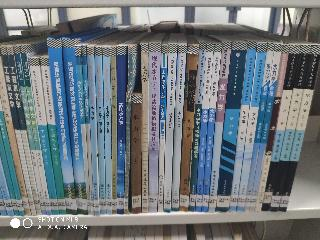book-spine: (275, 46, 320, 211), (270, 45, 310, 211), (261, 45, 300, 211), (7, 47, 42, 214), (1, 47, 35, 214), (255, 45, 289, 211), (20, 44, 52, 214), (215, 42, 247, 210), (249, 44, 281, 211), (14, 47, 46, 214), (235, 43, 266, 211), (48, 39, 76, 213), (0, 59, 30, 216), (245, 44, 273, 212), (229, 42, 256, 211), (30, 58, 58, 214), (65, 39, 86, 212), (209, 43, 230, 212), (42, 59, 65, 213), (178, 46, 197, 209), (202, 45, 220, 211), (189, 44, 206, 210), (145, 43, 161, 212), (196, 44, 212, 211), (76, 47, 91, 213), (172, 45, 186, 210), (82, 47, 94, 214), (123, 46, 134, 213), (87, 47, 98, 214), (164, 45, 175, 211), (95, 48, 105, 214), (158, 46, 167, 212), (117, 47, 126, 213), (103, 48, 111, 213), (142, 44, 148, 211), (132, 96, 140, 213), (111, 48, 116, 213)
